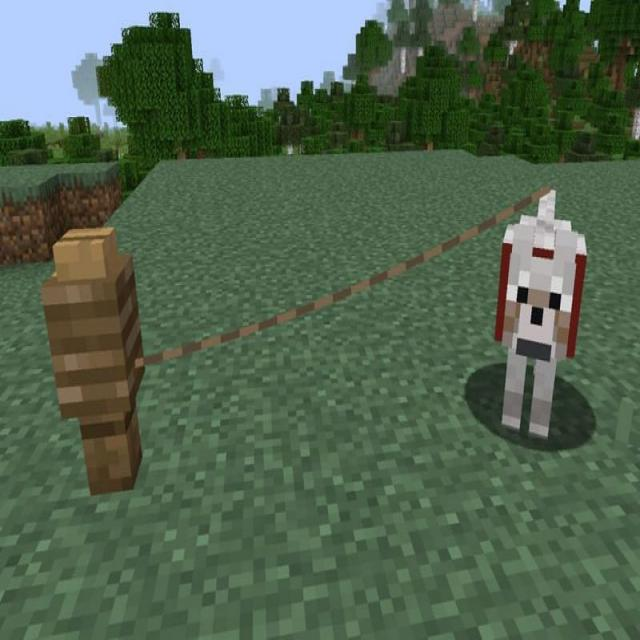Wolf: (494, 190, 587, 437)
